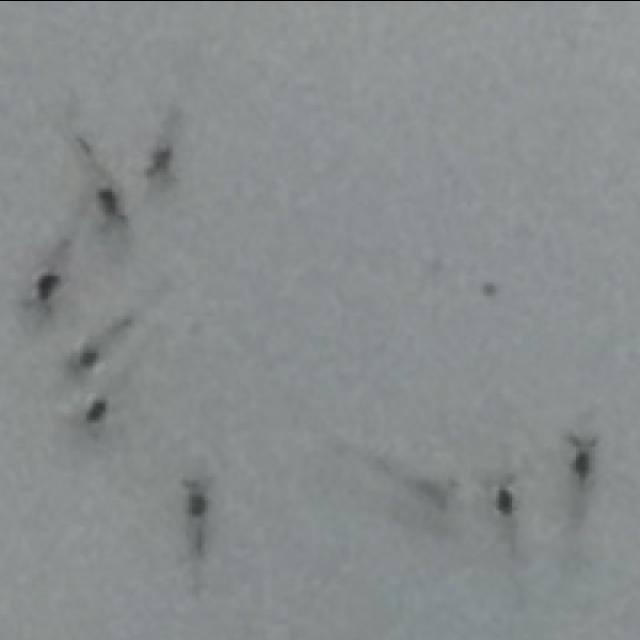shrimp-seed: (560, 427, 606, 489), (178, 474, 215, 548), (91, 180, 137, 236), (410, 472, 462, 518), (21, 272, 67, 322), (143, 138, 185, 190), (486, 470, 528, 518), (65, 338, 106, 380), (76, 393, 115, 436)
